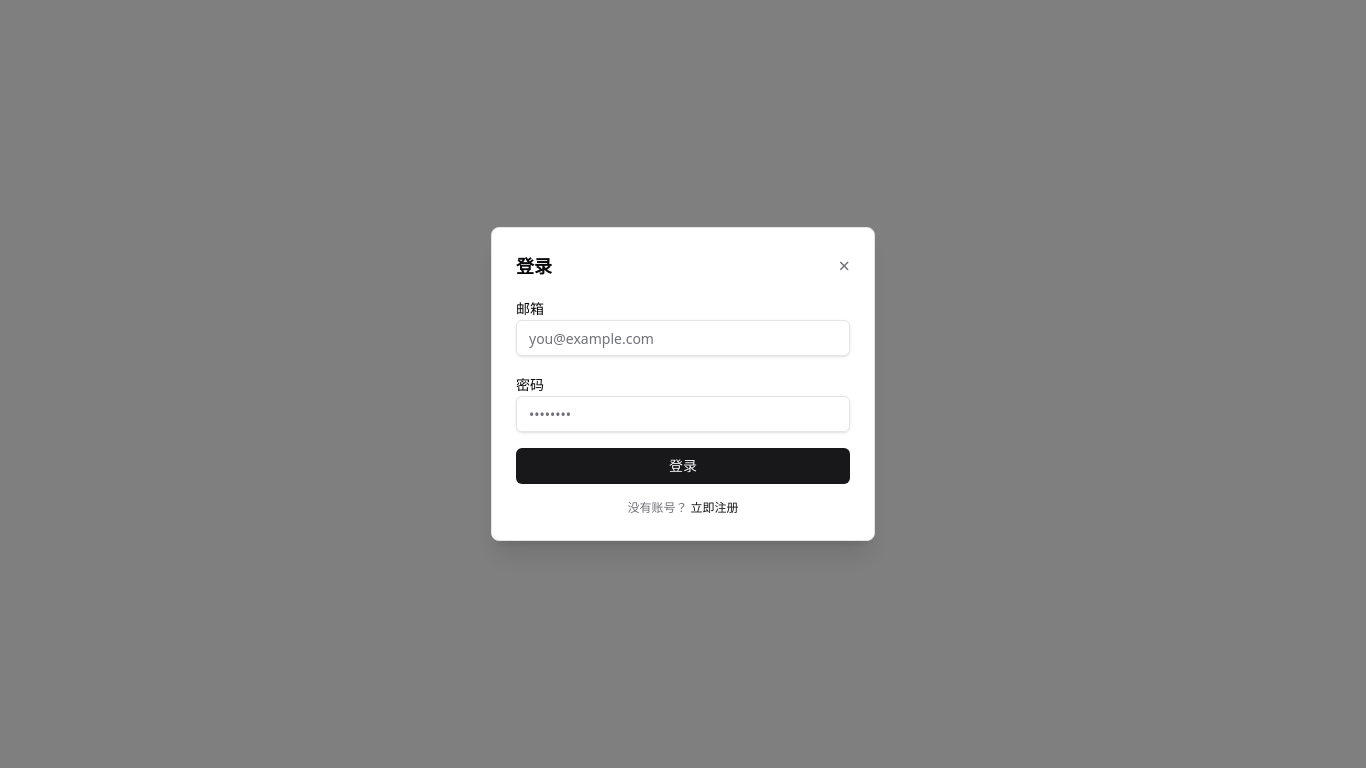
Test: AuthModal › 登录失败时显示错误消息
Type "a@b.com" into the field labelled "邮箱" at (683, 338), box [516,320,850,356]
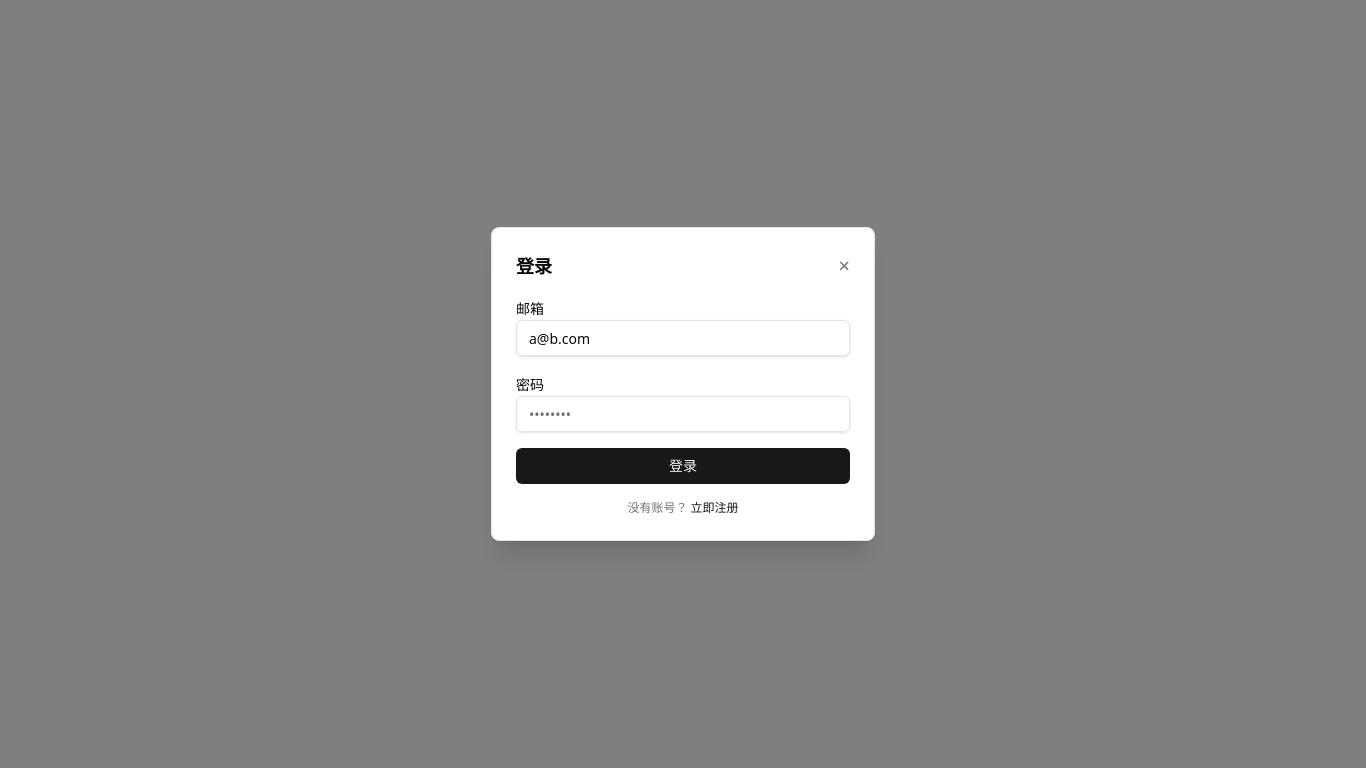
Type "wrong" into the password field labelled "密码" at (683, 414), box [516,396,850,432]
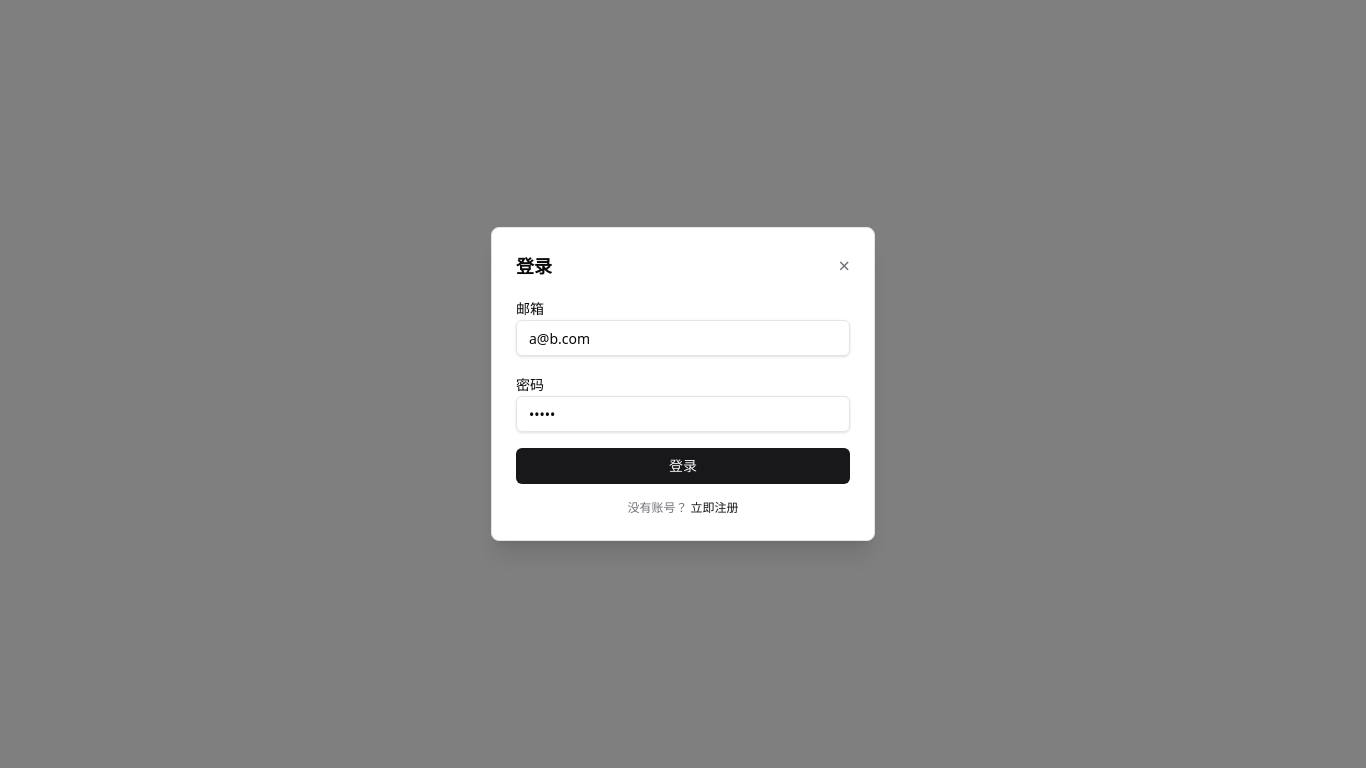
Click the button "登录" at (683, 466), box [516,448,850,484]
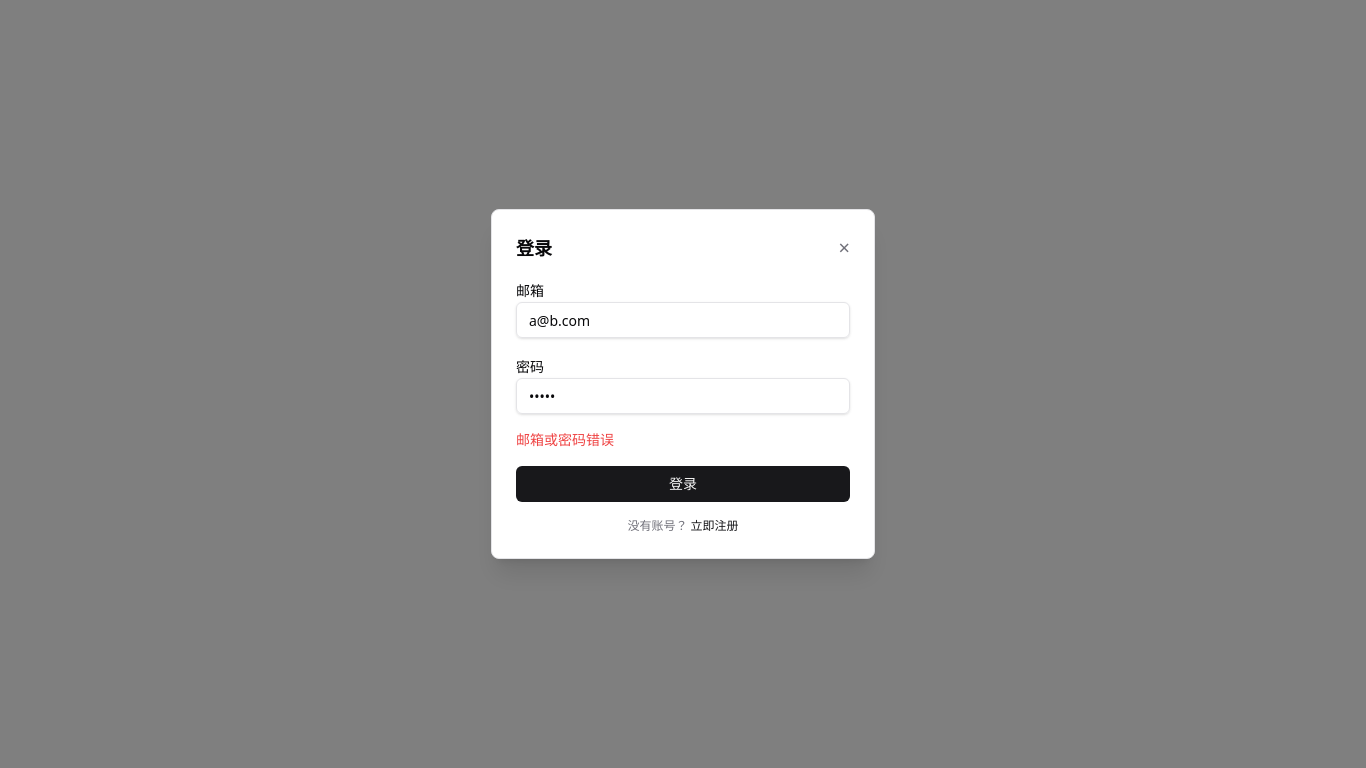
Expected: the heading "登录" is shown, [516,234,552,262]
Expected: the text "邮箱或密码错误" is shown, [516,430,614,449]
